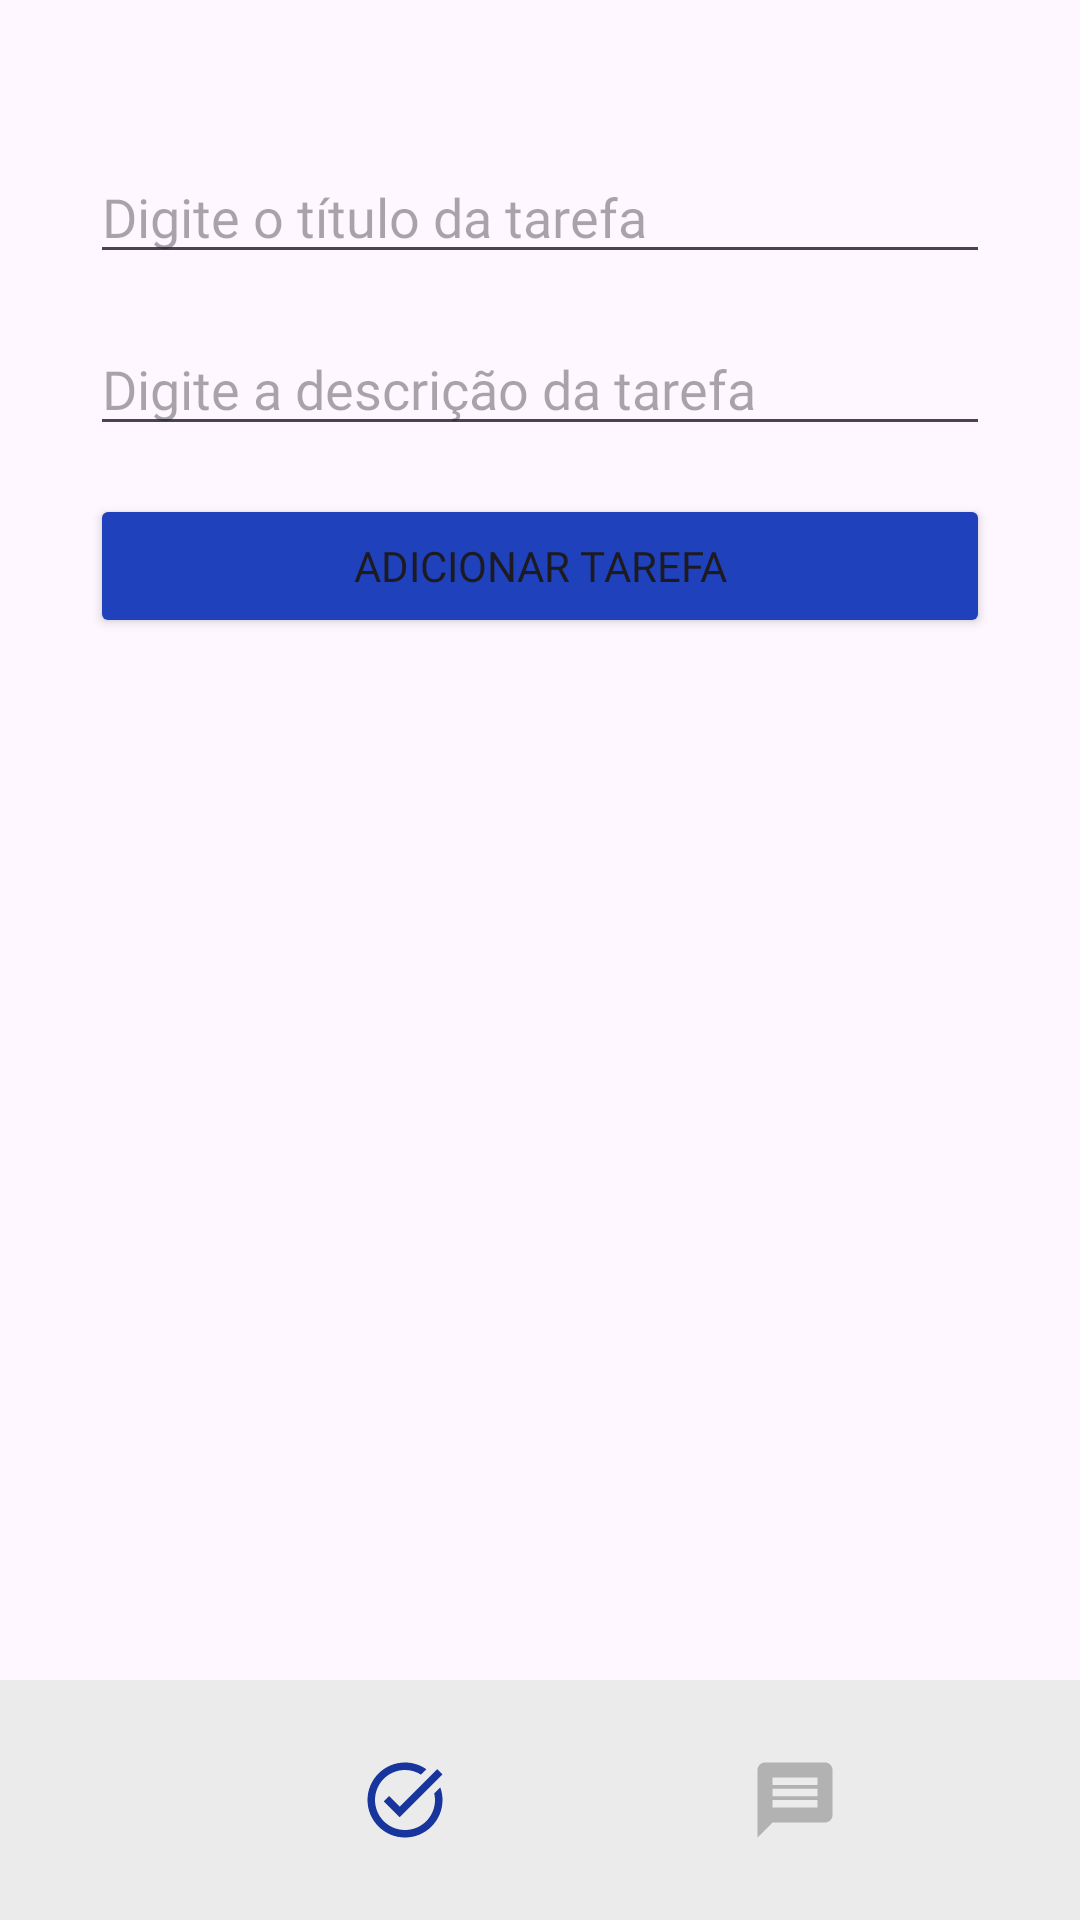

Named icons in this screenshot (1080px×1920px) and their centers, (x=x, y=y):
message: (x=795, y=1799)
task: (x=405, y=1800)
